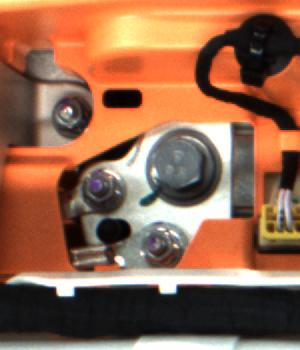nut_b: (142, 128, 217, 201)
screw_s: (43, 95, 94, 141), (135, 228, 183, 271), (80, 168, 123, 211)
